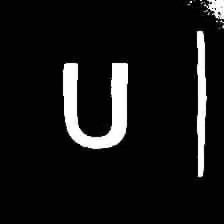LTR_U: (55, 51, 133, 155)
